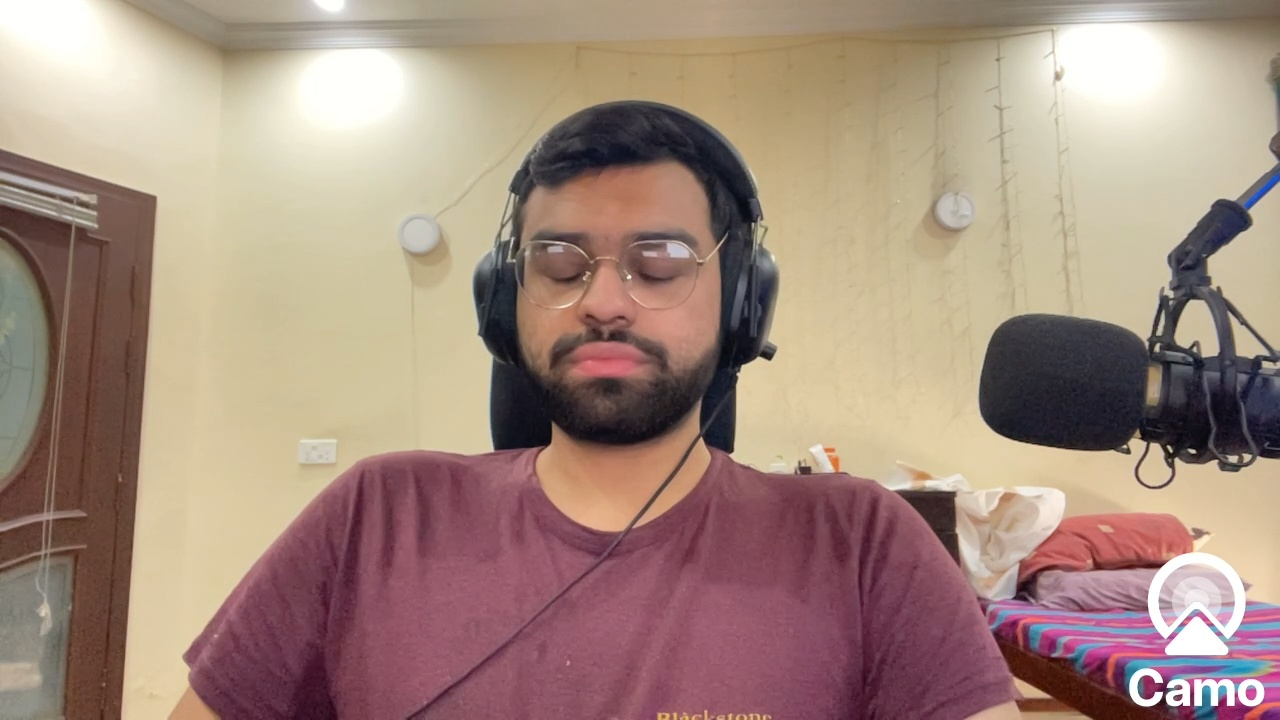neutral: (513, 170, 720, 450)
